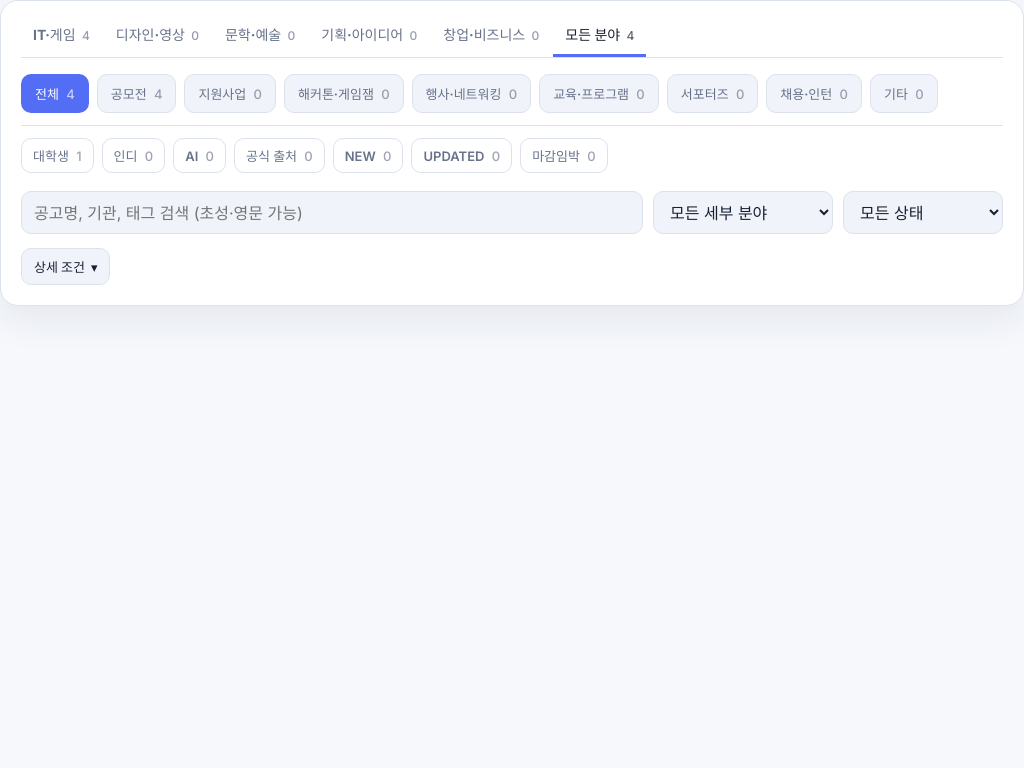
Test case: advanced filter panel › starts closed without active conditions and opens on demand
Check: the field labelled "지역" is not shown
Click the button "상세 조건 ▾".
click(66, 266)  # box [21,248,110,285]
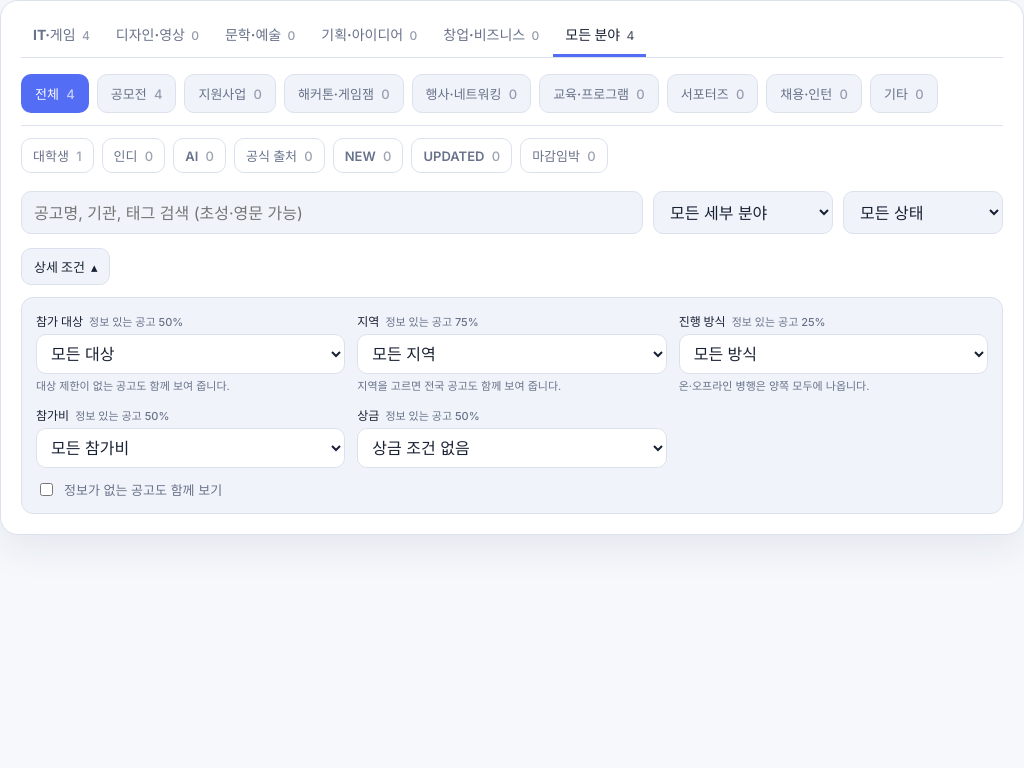
Check: the button "상세 조건 ▴" is expanded, box [21,248,110,285]
Check: the dropdown labelled "지역" is shown, box [357,334,667,374]
